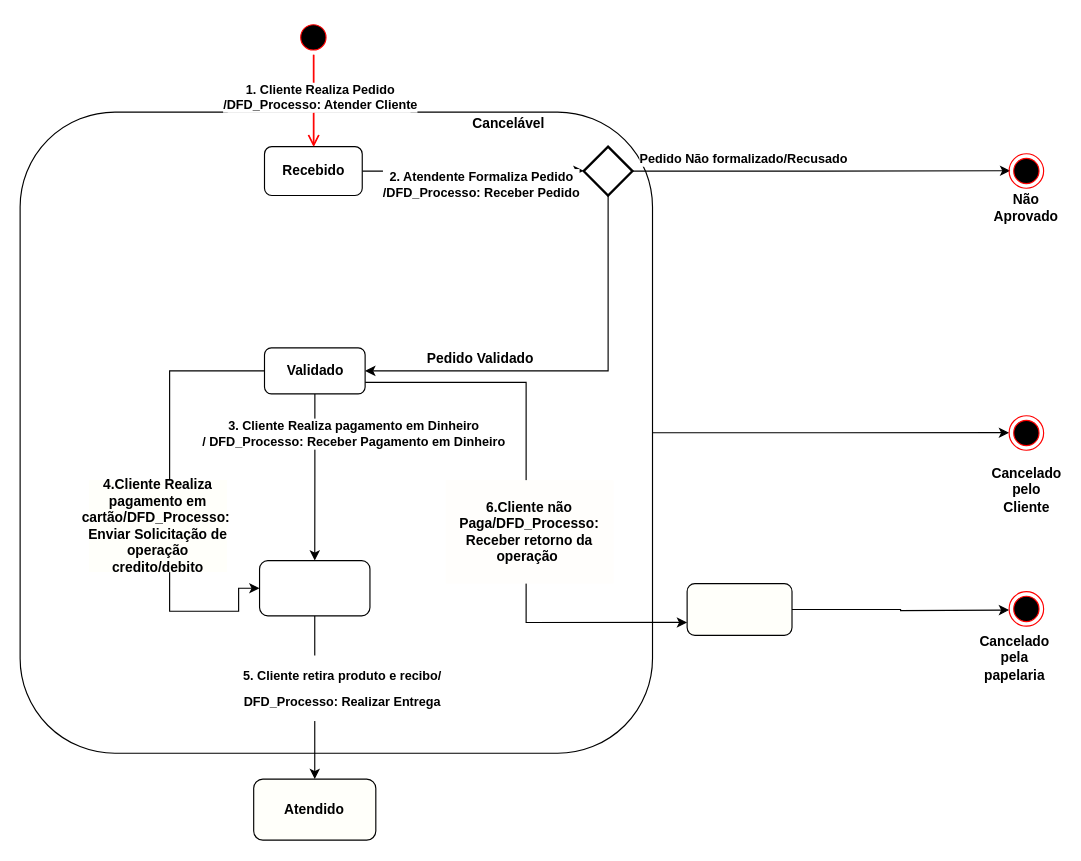
Image size: 1081x861. Some labels were removed from this diagram. Here are the shapes that lost their labels. From the top down, the centre of each, then its label:
At point (314, 587): "Pago".
At point (739, 608): "Não Pago".
